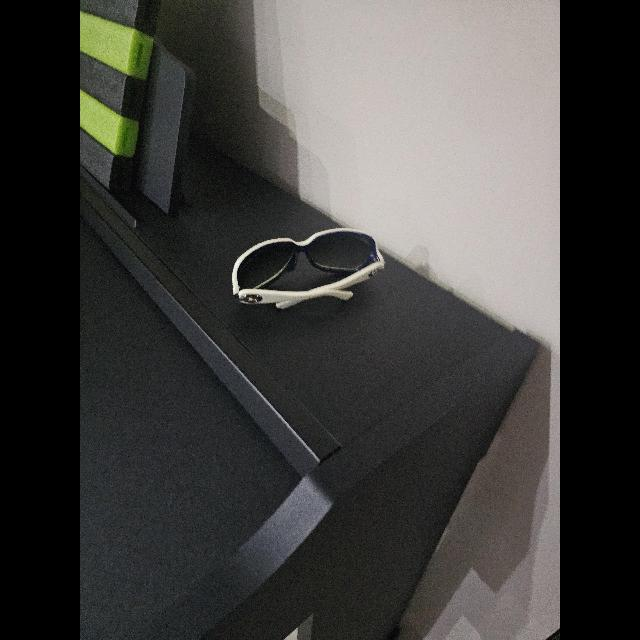Sunglasses: (232, 228, 384, 308)
